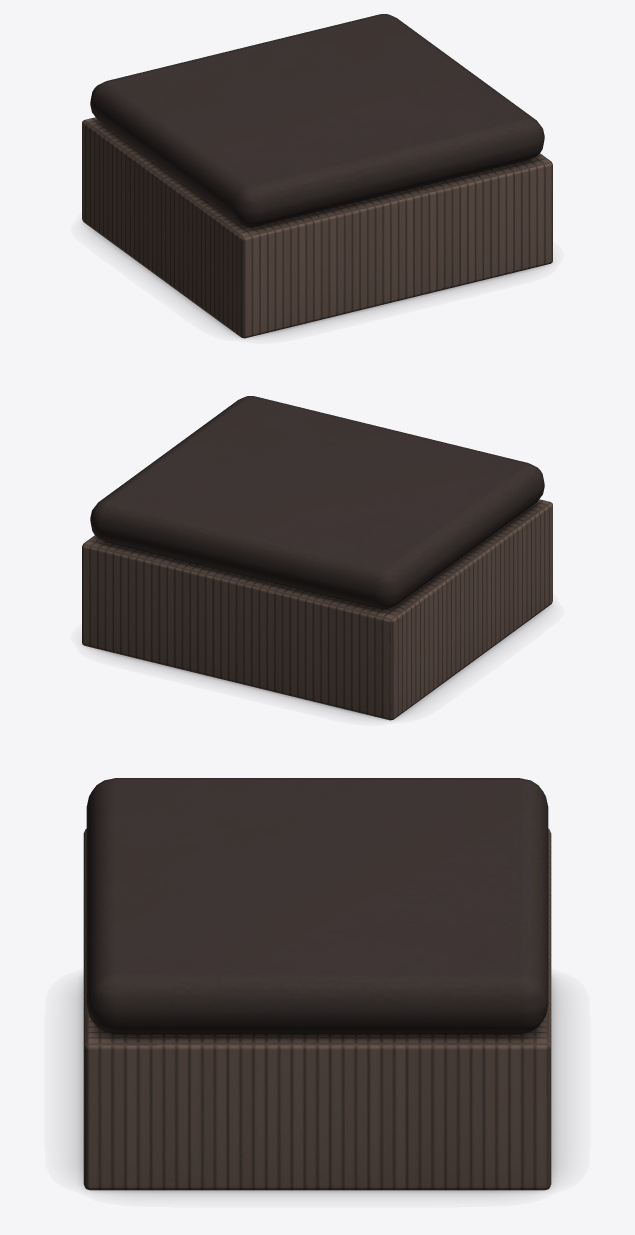
Rendered from rattan-ottoman.glb.
3 views of the same model, one above another, from view 1: azimuth 30°, elevation 25°; view 2: azimuth 150°, elevation 25°; view 3: azimuth 270°, elevation 25° (orthographic). The views are drawn at different scales.
Visible parts, largest first — view 1: patio__Garden table (square, grey)__mesh, patio__Garden table (square, grey)__shadow; view 2: patio__Garden table (square, grey)__mesh, patio__Garden table (square, grey)__shadow; view 3: patio__Garden table (square, grey)__mesh, patio__Garden table (square, grey)__shadow.
Boxes of the visible parts, x1,y1,x2,y2 form: patio__Garden table (square, grey)__mesh: [82, 14, 552, 338]; patio__Garden table (square, grey)__shadow: [84, 223, 549, 337]; patio__Garden table (square, grey)__mesh: [82, 396, 552, 720]; patio__Garden table (square, grey)__shadow: [85, 605, 550, 719]; patio__Garden table (square, grey)__mesh: [83, 778, 551, 1190]; patio__Garden table (square, grey)__shadow: [75, 978, 559, 1193].
Size of the model in its own units: 1.13 by 0.39 by 1.04.
2 materials, 2 textured.
